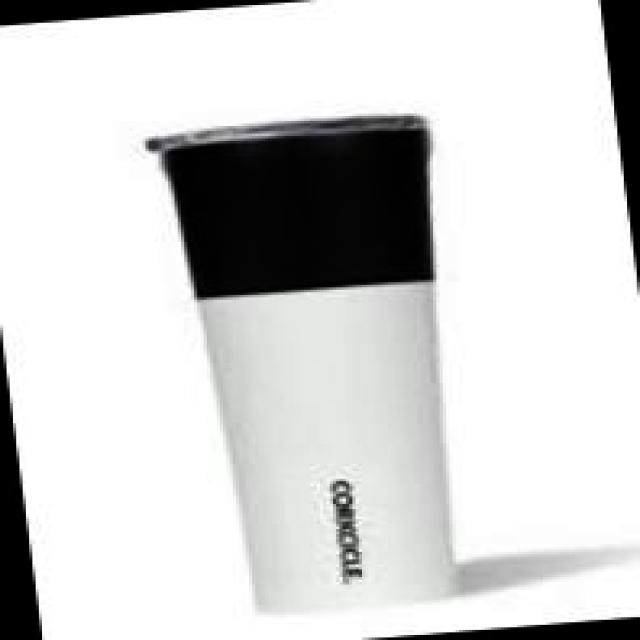bottle: (145, 110, 501, 616)
